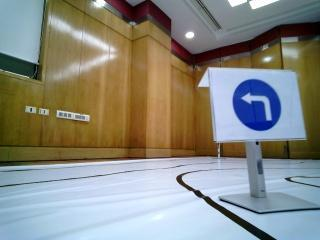left: (219, 73, 293, 139)
